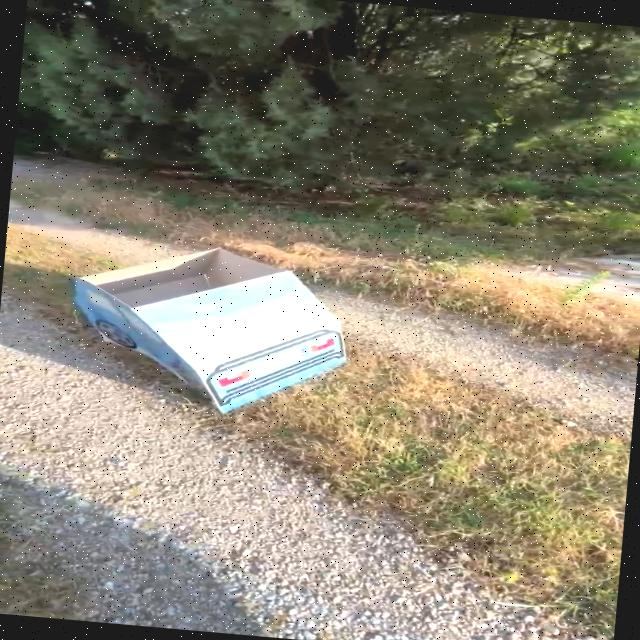blue_car: (39, 207, 446, 447)
